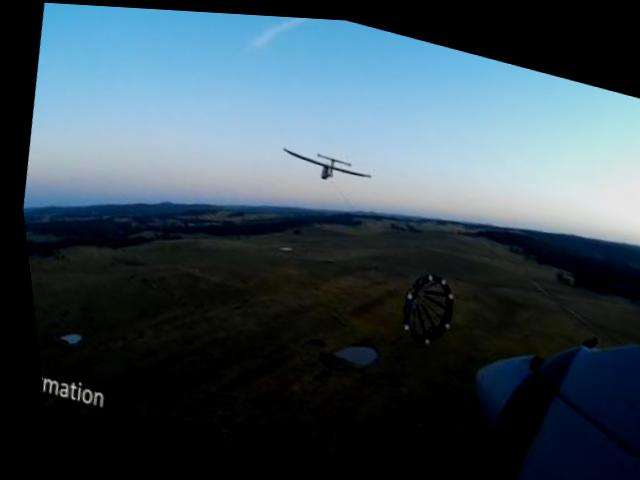uav: (270, 134, 373, 192)
